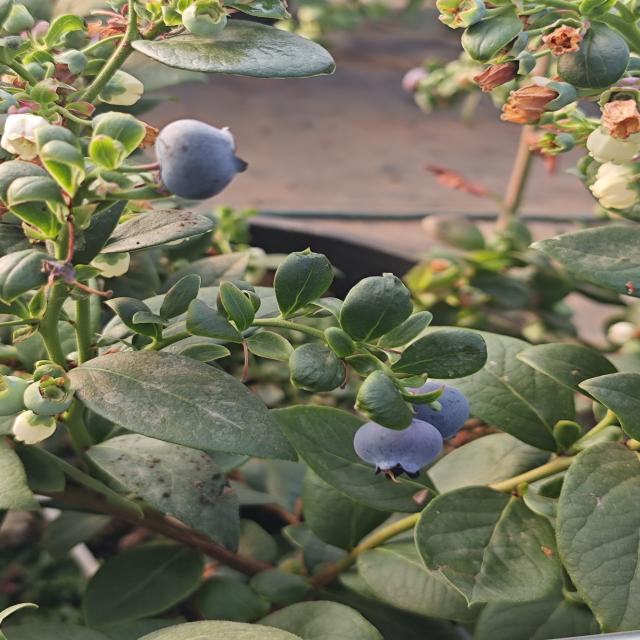ripe: (151, 118, 250, 204), (350, 416, 446, 484), (403, 379, 472, 442)
